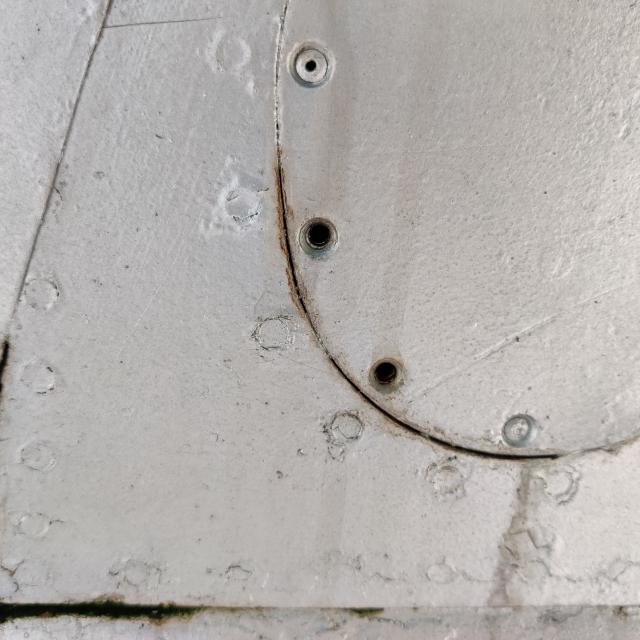missing-head: (278, 202, 358, 282), (354, 337, 420, 412)
